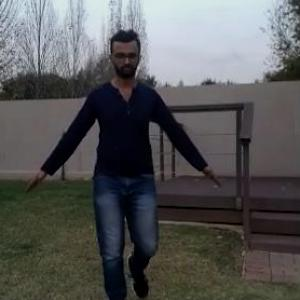land: (32, 41, 204, 296)
